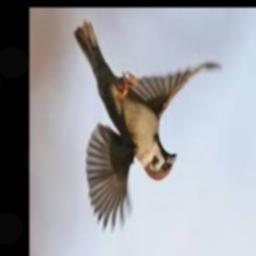Sparrow: (73, 20, 223, 234)
